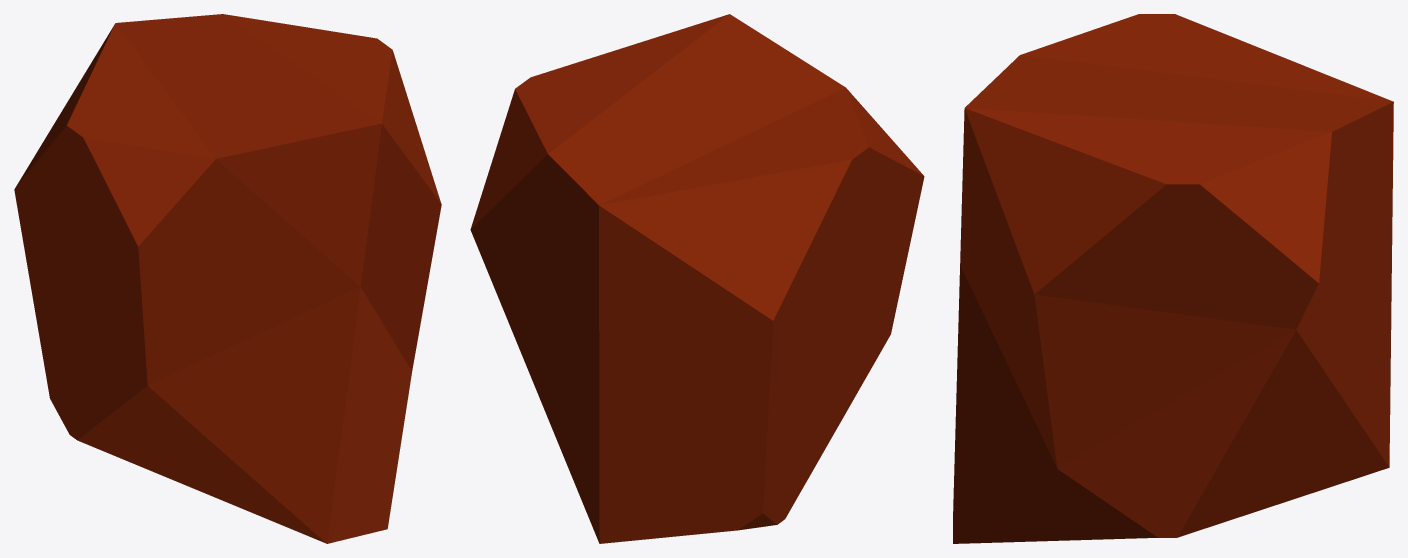
The model's file is Jem_31.fbx.
3 renders of one model, left to right at view 1: azimuth 30°, elevation 25°; view 2: azimuth 150°, elevation 25°; view 3: azimuth 270°, elevation 25°, orthographic. The views are drawn at different scales.
Parts seen in each view (by area): view 1: Jem_31; view 2: Jem_31; view 3: Jem_31.
Part boxes in pixels (box(x1,y1,x2,y2)): Jem_31: box(14, 14, 441, 543); Jem_31: box(470, 14, 924, 543); Jem_31: box(953, 14, 1393, 543).
Bounding box in the file's own units: 39.11 × 46.64 × 42.75.
